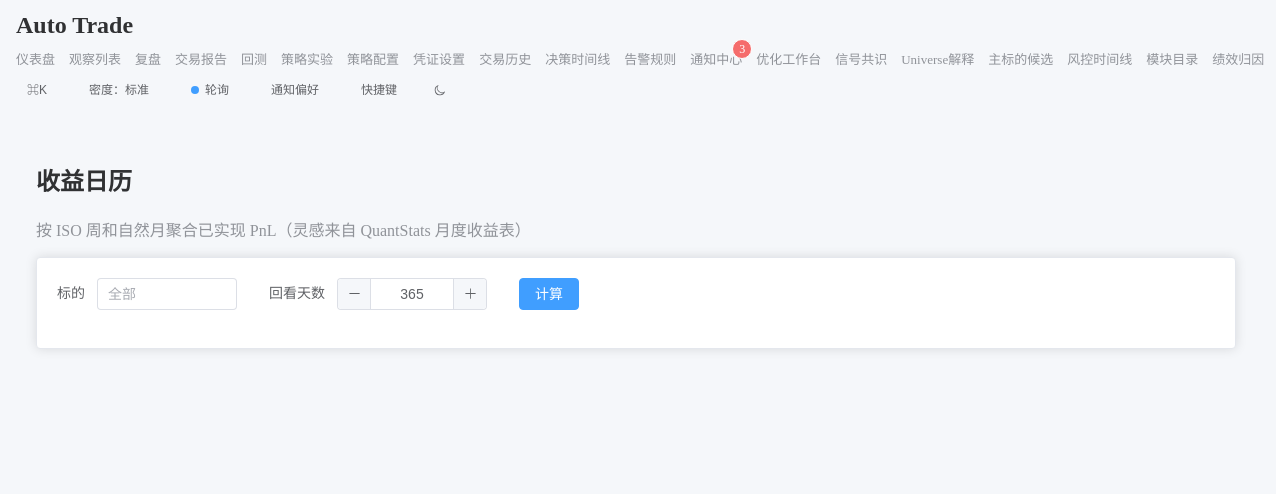
Analytics panels expose FIFO evidence quality › return-calendar surfaces unresolved ledger evidence
Click the button "计算": click(549, 294) [519,278,579,310]
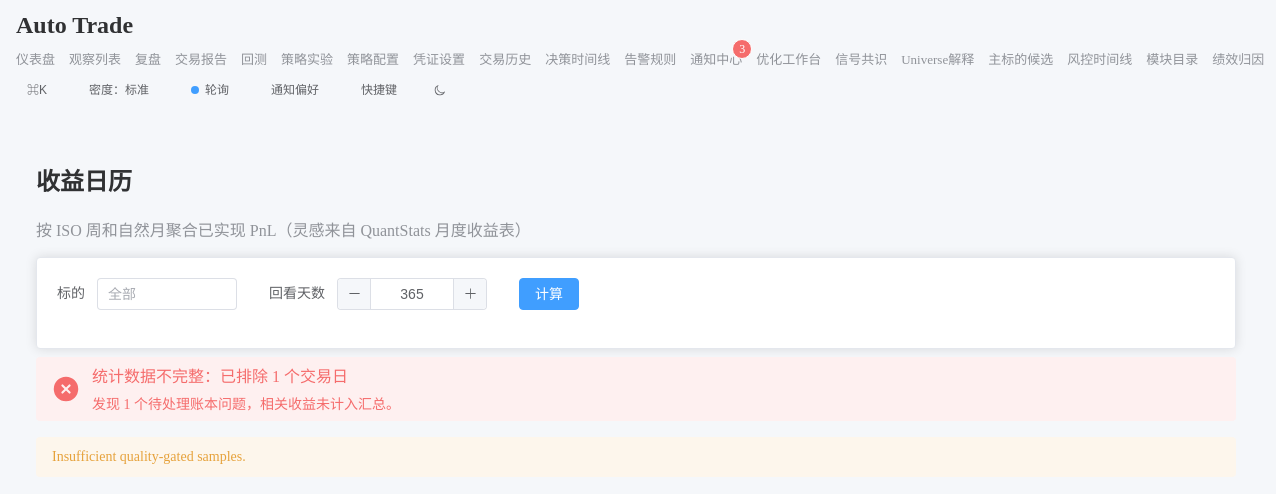
Check: the text with test id "statistics-quality-alert" shows "已排除 1 个交易日", box [92,368,348,385]
